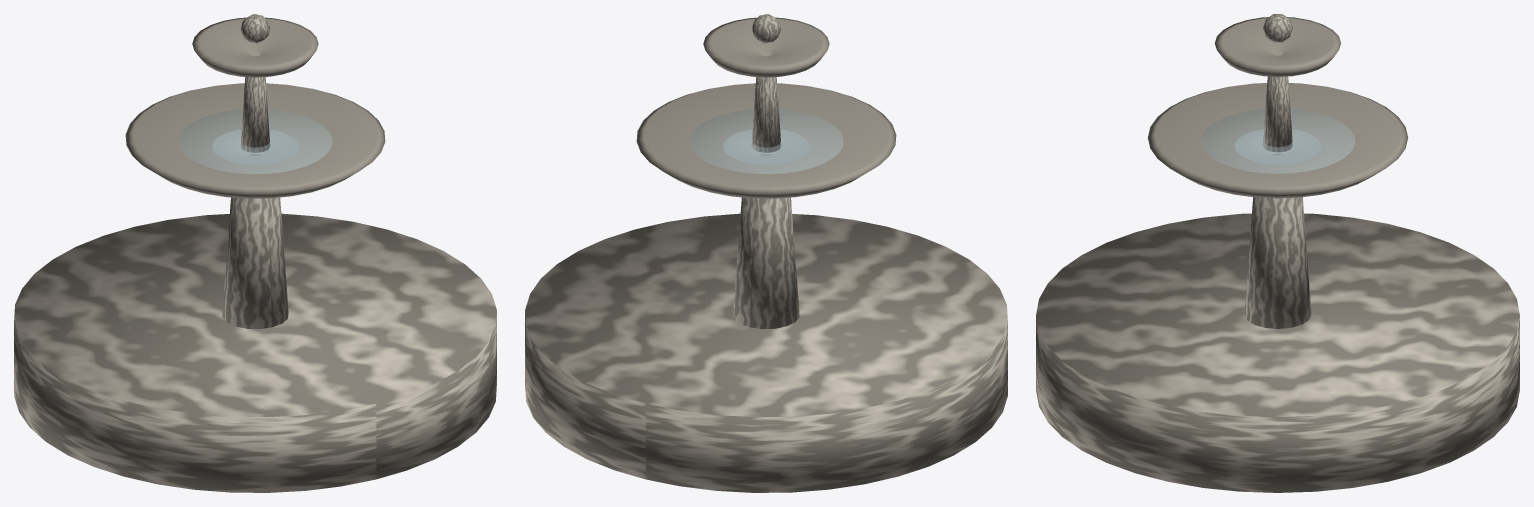
File: fountain.glb
3 renders of one model, left to right at view 1: azimuth 30°, elevation 25°; view 2: azimuth 150°, elevation 25°; view 3: azimuth 270°, elevation 25°, orthographic.
Visible parts, largest first — view 1: fountain; view 2: fountain; view 3: fountain.
Boxes of the visible parts, <box> form: fountain: <box>14,14,496,492</box>; fountain: <box>525,14,1007,492</box>; fountain: <box>1036,14,1519,492</box>.
Size of the model in its own units: 2.6 by 2.23 by 2.6.
2 materials, 1 textured.
